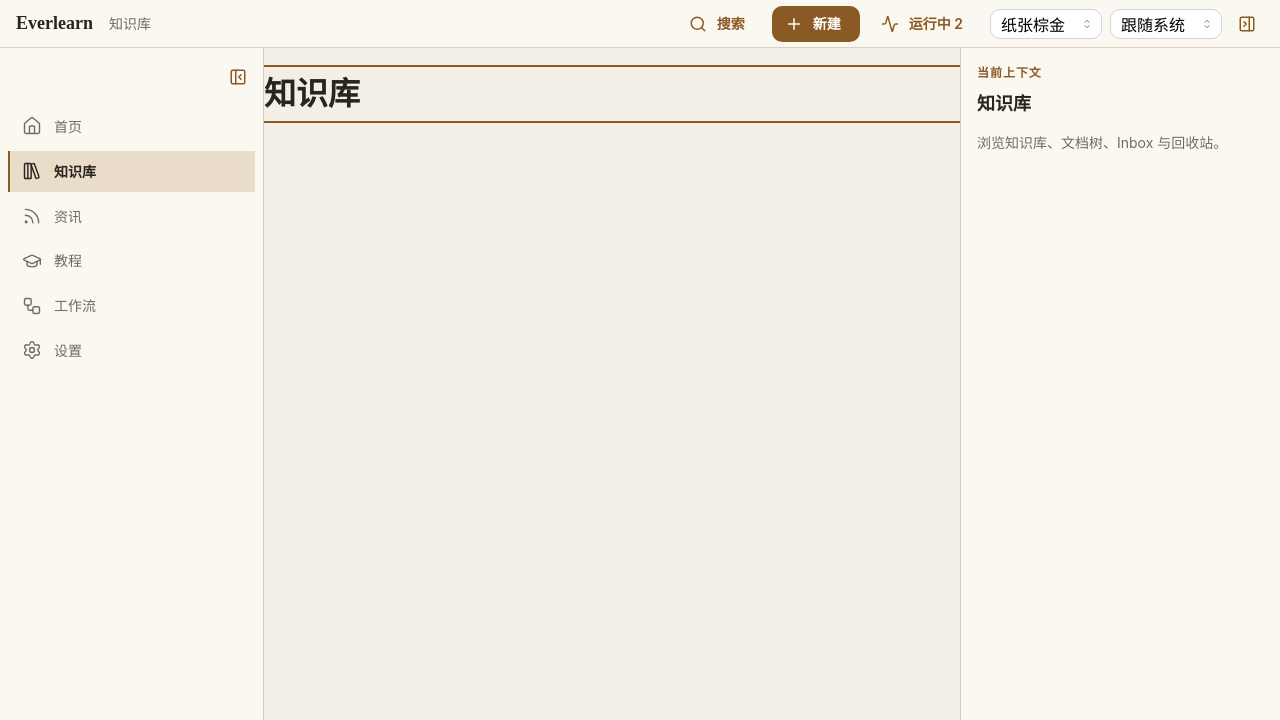
Test: renders the accessible desktop shell
Click the button named "收起导航": (238, 77) x1=221 y1=60 x2=255 y2=94
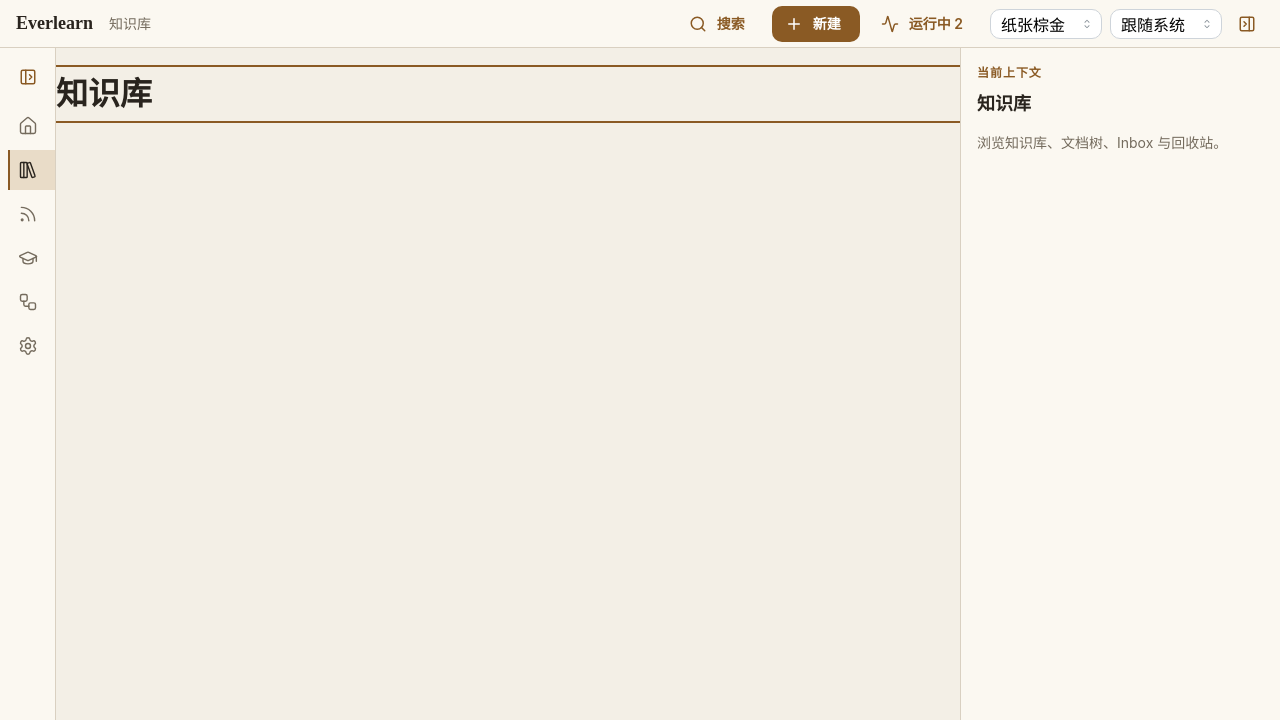
Check: the element "当前上下文" is shown, box x1=960 y1=48 x2=1279 y2=719
Check: the button named "收起导航" is collapsed, box x1=10 y1=60 x2=44 y2=94
